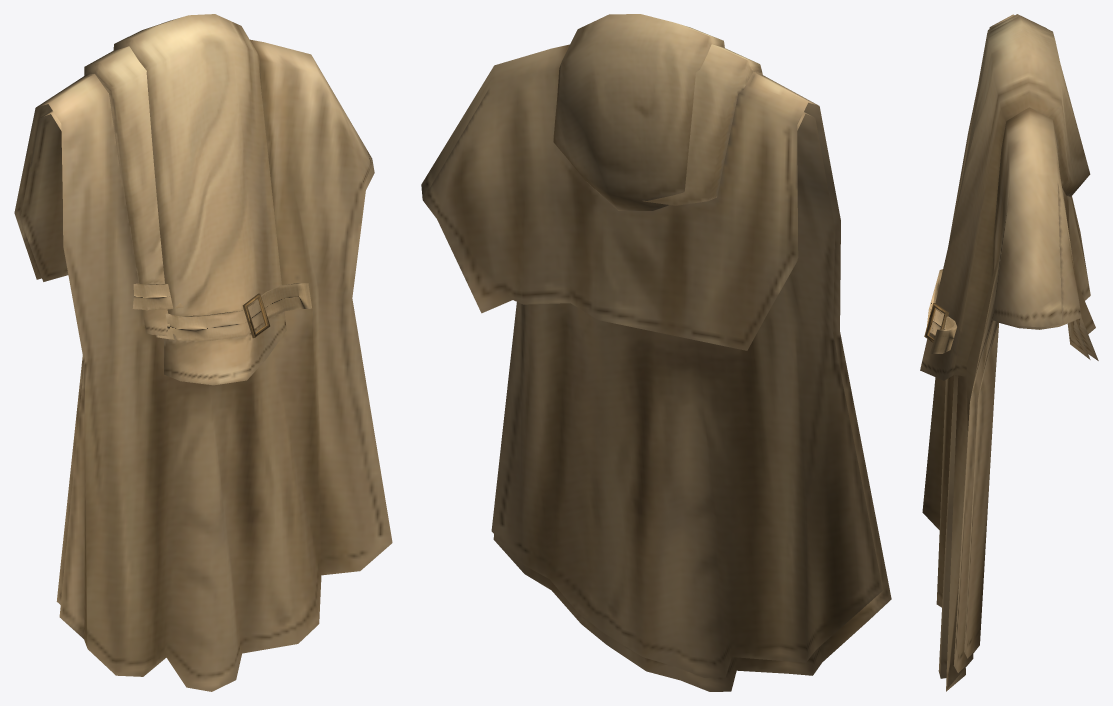
Rendered from XiuXiShi_01_fengyi_01.FBX.
3 views of the same model, side by side, from view 1: azimuth 30°, elevation 25°; view 2: azimuth 150°, elevation 25°; view 3: azimuth 270°, elevation 25° (orthographic). The views are drawn at different scales.
Visible parts, largest first — view 1: XiuXiShi_fengyi_01; view 2: XiuXiShi_fengyi_01; view 3: XiuXiShi_fengyi_01.
Part boxes in pixels (x1=…): XiuXiShi_fengyi_01: x1=14, y1=14, x2=392, y2=691; XiuXiShi_fengyi_01: x1=421, y1=14, x2=891, y2=691; XiuXiShi_fengyi_01: x1=920, y1=14, x2=1098, y2=691.
Size of the model in its own units: 245 by 406 by 102.
